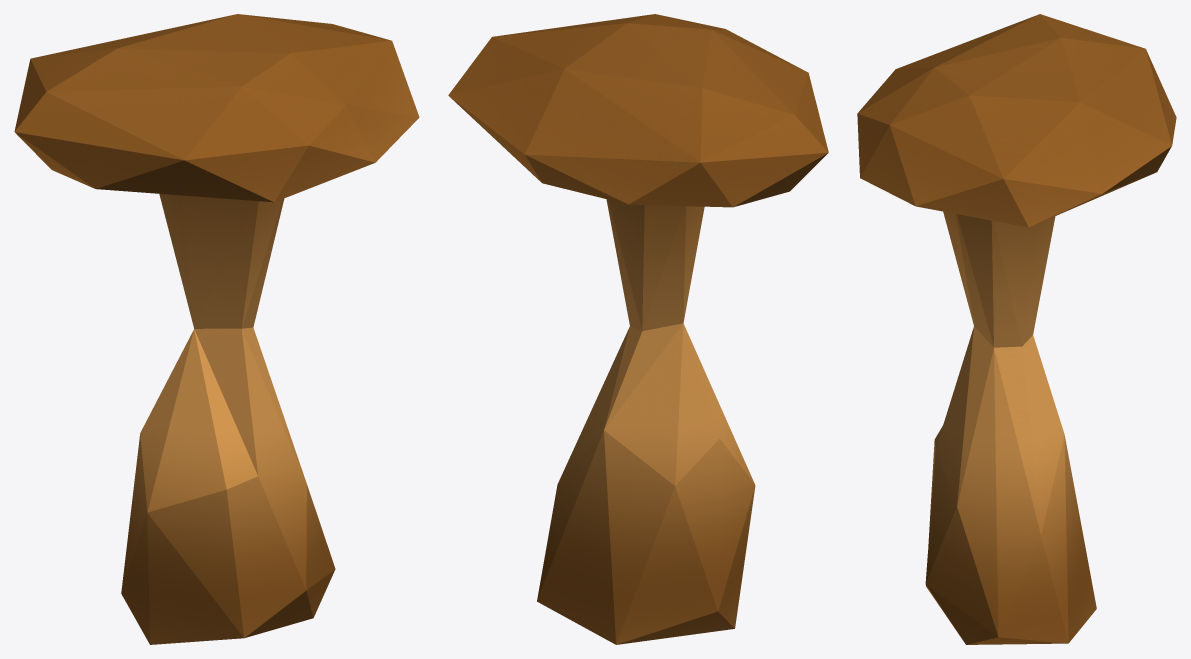
The model's file is hoodooMedium.fbx.
3 views of the same model, side by side, from view 1: azimuth 30°, elevation 25°; view 2: azimuth 150°, elevation 25°; view 3: azimuth 270°, elevation 25° (orthographic). The views are drawn at different scales.
Parts seen in each view (by area): view 1: hoodooMedium; view 2: hoodooMedium; view 3: hoodooMedium.
Boxes of the visible parts, bbox=[...] form: hoodooMedium: bbox=[14, 14, 419, 644]; hoodooMedium: bbox=[448, 14, 828, 644]; hoodooMedium: bbox=[857, 14, 1176, 644].
Size of the model in its own units: 536 by 784 by 417.
